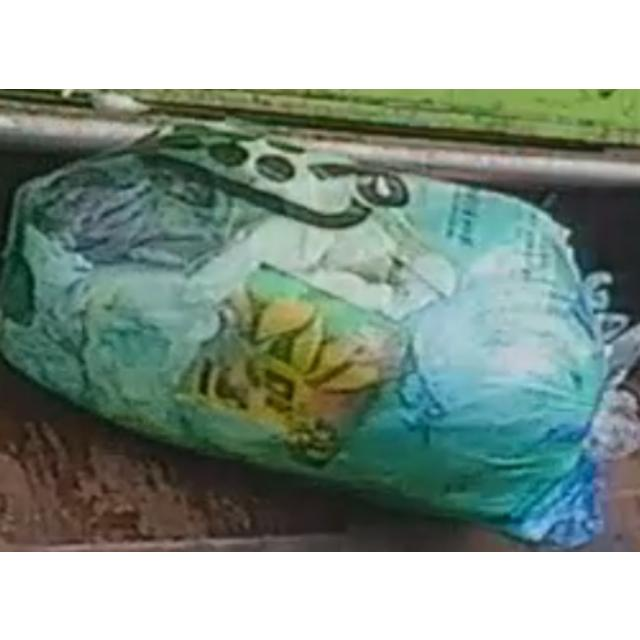general_trashbag: (0, 122, 604, 545)
